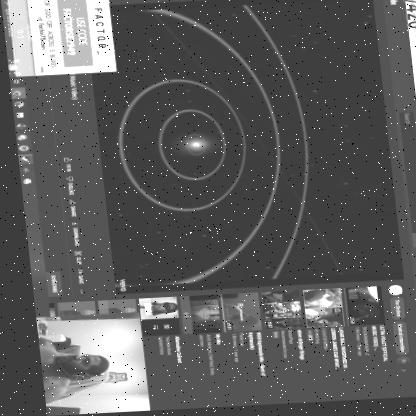streamer: (30, 341, 103, 404)
